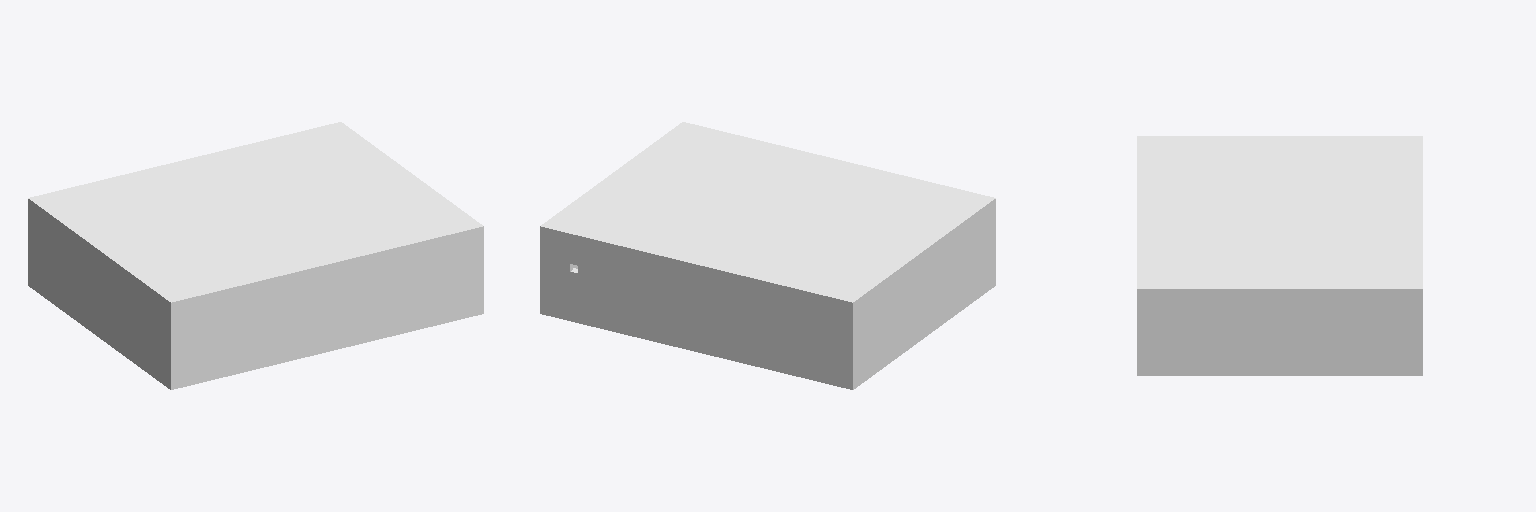
Rendered from CSGBox.obj.
3 views of the same model, side by side, from view 1: azimuth 30°, elevation 25°; view 2: azimuth 150°, elevation 25°; view 3: azimuth 270°, elevation 25° (orthographic).
Visible parts, largest first — view 1: CSGBox; view 2: CSGBox; view 3: CSGBox.
Part boxes in pixels (x1,y1,x2,y2): CSGBox: (28, 122, 483, 389); CSGBox: (540, 122, 995, 389); CSGBox: (1137, 136, 1422, 375).
Bounding box in the file's own units: 106 × 28.44 × 84.15.